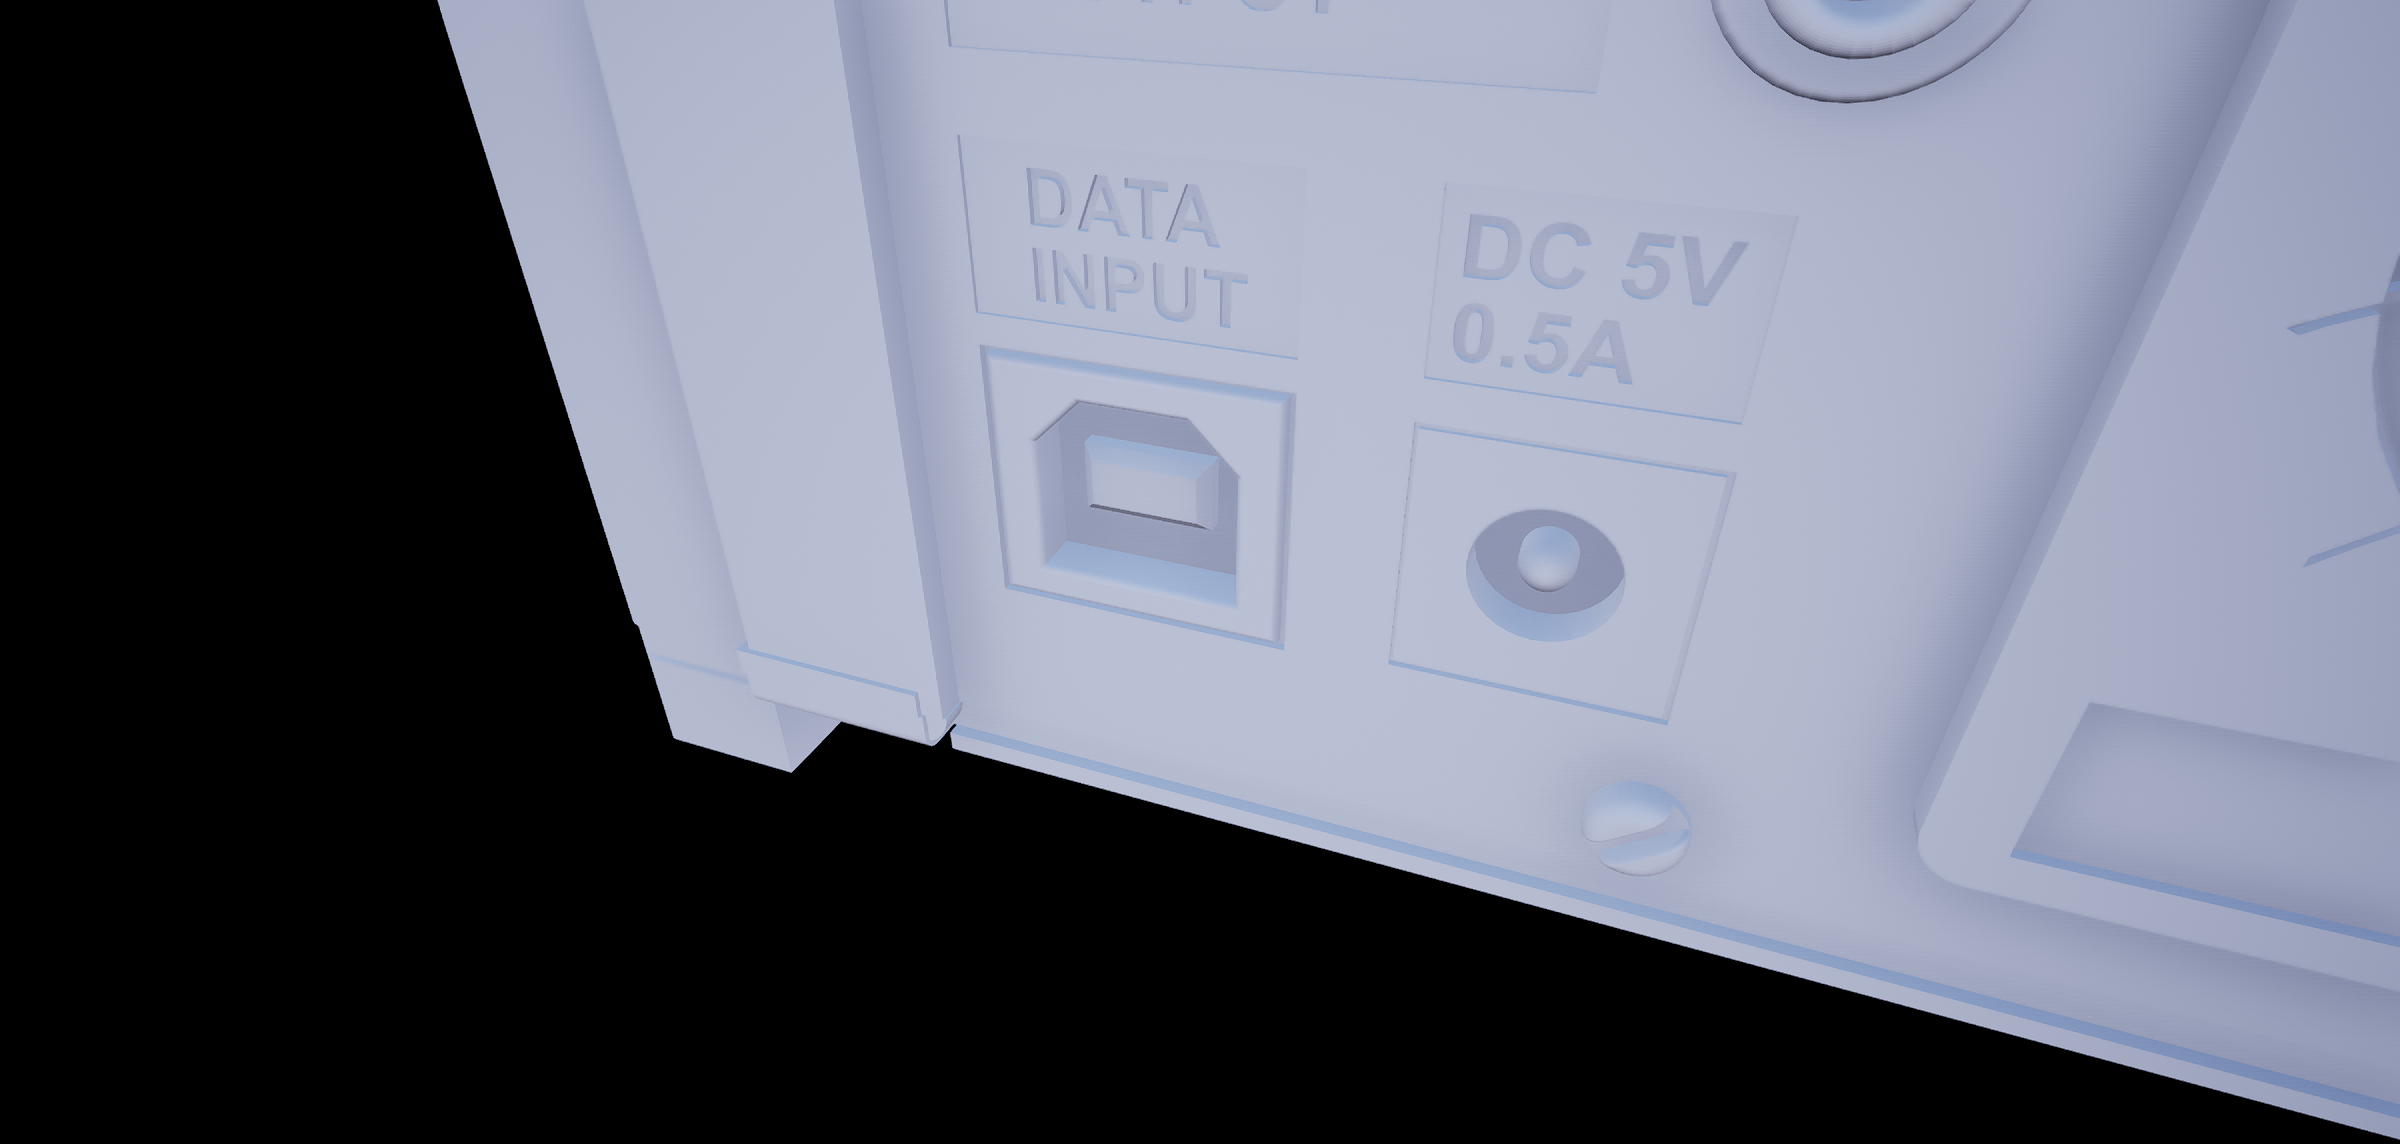dc: (1446, 499, 1641, 657)
usb: (1022, 381, 1263, 620)
